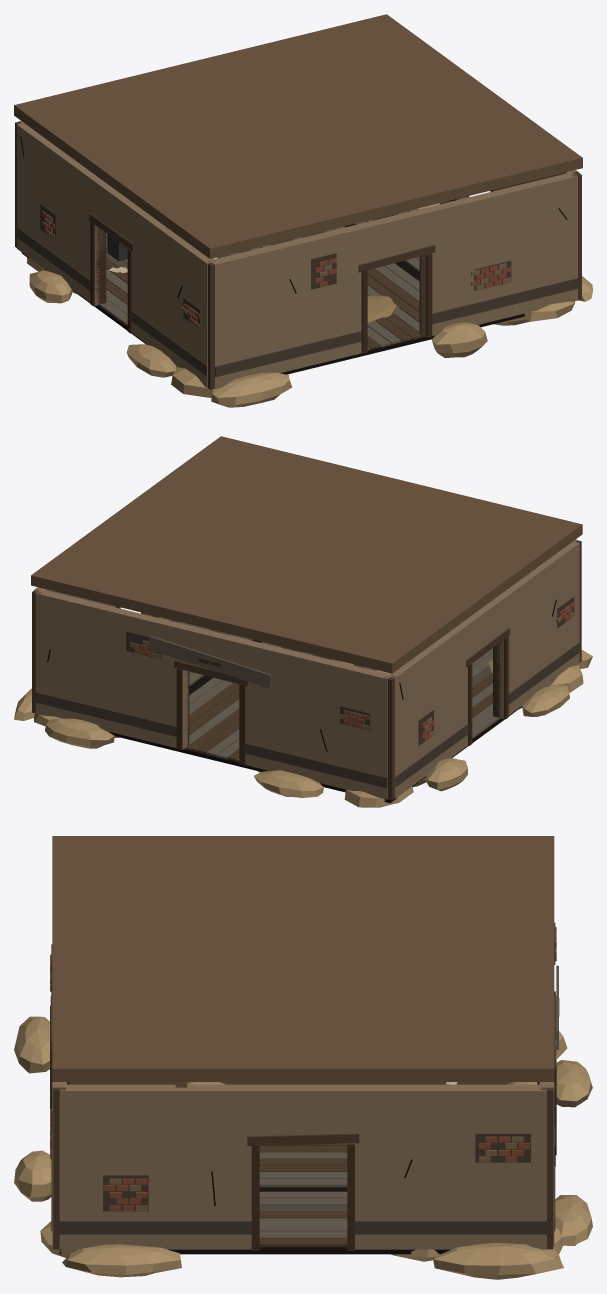
The model's file is TownBldg_sheriff.glb.
3 views of the same model, one above another, from view 1: azimuth 30°, elevation 25°; view 2: azimuth 150°, elevation 25°; view 3: azimuth 270°, elevation 25° (orthographic). The views are drawn at different scales.
Visible parts, largest first — view 1: TownBldg_sheriff.001; view 2: TownBldg_sheriff.001; view 3: TownBldg_sheriff.001.
Part boxes in pixels (x1,y1,x2,y2): TownBldg_sheriff.001: (14, 14, 592, 407); TownBldg_sheriff.001: (14, 436, 592, 807); TownBldg_sheriff.001: (14, 836, 592, 1279).
Size of the model in its own units: 12.89 by 4.7 by 11.89.
